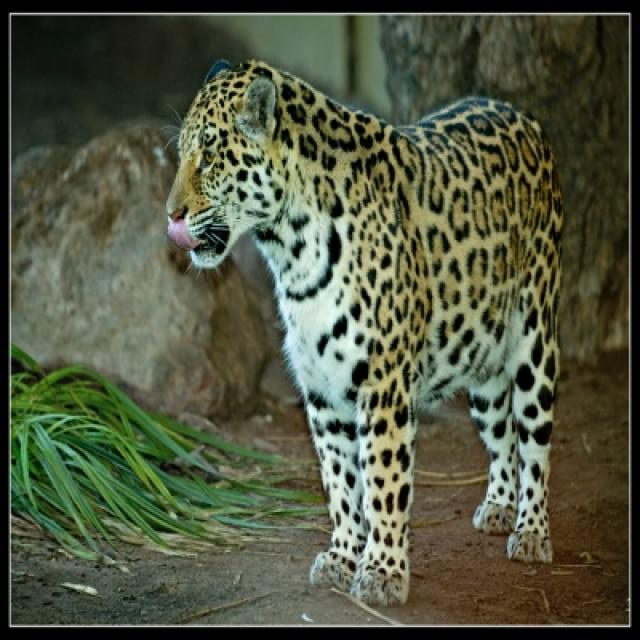Jaguar: (166, 59, 565, 605)
